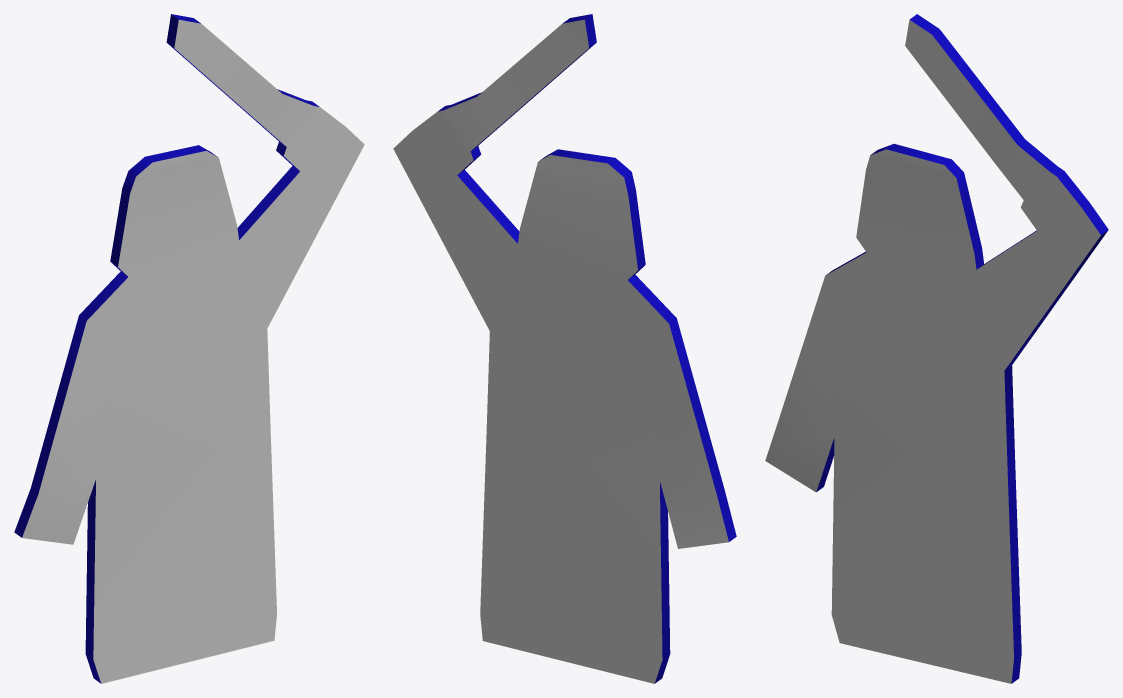
The model's file is knight.fbx.
3 renders of one model, left to right at view 1: azimuth 30°, elevation 25°; view 2: azimuth 150°, elevation 25°; view 3: azimuth 330°, elevation 25°, orthographic.
Parts seen in each view (by area): view 1: Box003; view 2: Box003; view 3: Box003.
Boxes of the visible parts, bbox=[...] form: Box003: bbox=[14, 14, 364, 683]; Box003: bbox=[393, 14, 736, 683]; Box003: bbox=[765, 14, 1108, 683].
Bounding box in the file's own units: 53.82 × 97.99 × 3.68.
